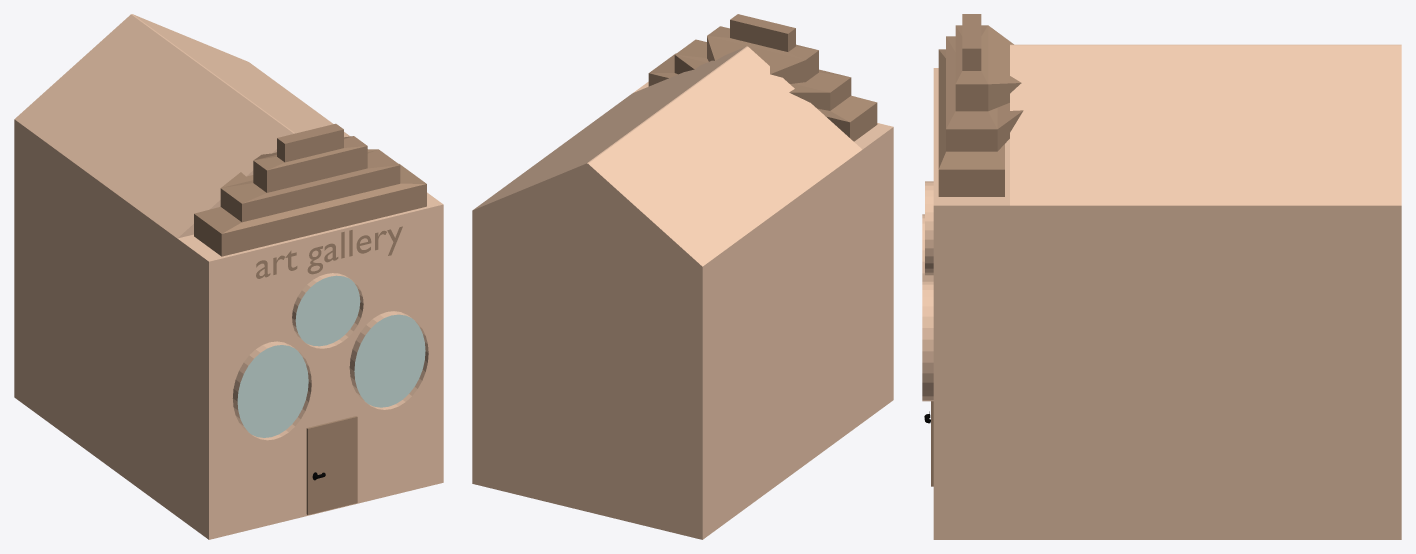
The model's file is artgallery.fbx.
The picture shows the model from 3 angles, left to right: view 1: azimuth 30°, elevation 25°; view 2: azimuth 150°, elevation 25°; view 3: azimuth 270°, elevation 25°; orthographic projection. The views are drawn at different scales.
Visible parts, largest first — view 1: Cube, Cube.001, Cylinder.005, Cylinder.004, Cube.002, Cylinder.001, Text, Cylinder.003, Cylinder.002, Cylinder; view 2: Cube, Cube.001; view 3: Cube, Cube.001, Cylinder.003, Cylinder.
Part boxes in pixels (<box>): Cube: <box>14,14,443,539</box>; Cube.001: <box>194,123,426,256</box>; Cylinder.005: <box>354,314,425,407</box>; Cylinder.004: <box>237,345,308,437</box>; Cube.002: <box>306,416,357,514</box>; Cylinder.001: <box>295,275,360,346</box>; Text: <box>256,226,402,278</box>; Cylinder.003: <box>349,311,428,409</box>; Cylinder.002: <box>232,341,311,440</box>; Cylinder: <box>292,273,363,348</box>; Cube: <box>472,46,893,539</box>; Cube.001: <box>648,14,877,141</box>; Cube: <box>933,44,1401,539</box>; Cube.001: <box>938,14,1023,196</box>; Cylinder.003: <box>922,280,933,401</box>; Cylinder: <box>925,181,933,275</box>.
Size of the model in its own units: 430 by 641 by 633.
